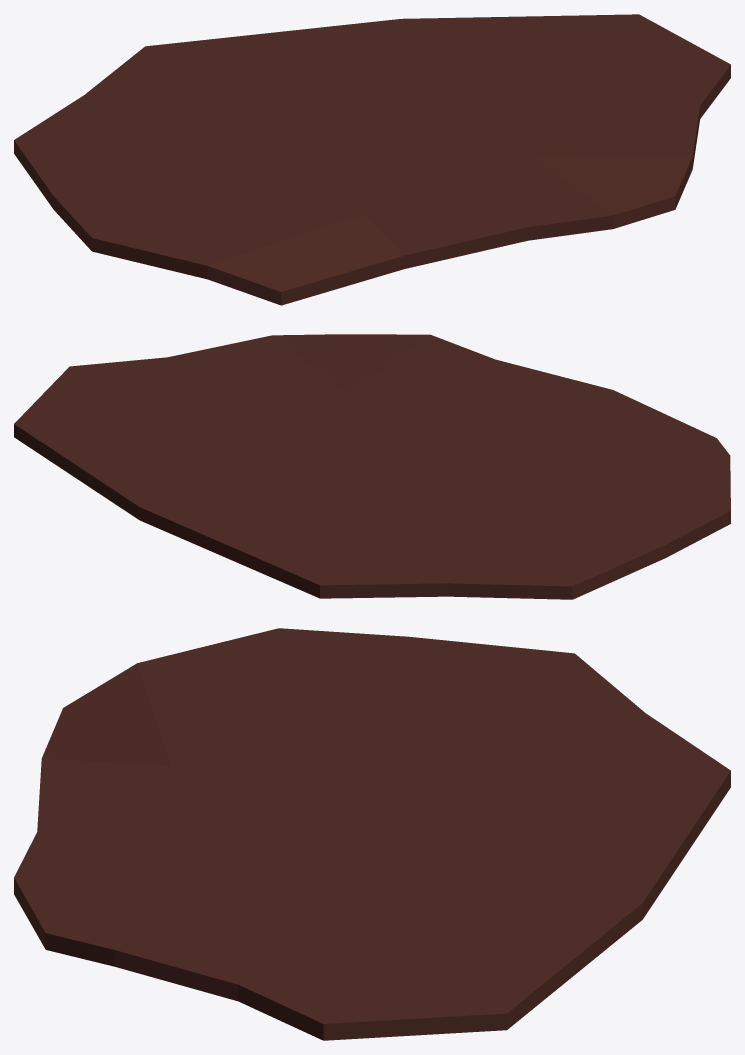
The model's file is puddleOfCoffe4.fbx.
The picture shows the model from 3 angles, top to bottom: view 1: azimuth 30°, elevation 25°; view 2: azimuth 150°, elevation 25°; view 3: azimuth 270°, elevation 25°; orthographic projection. The views are drawn at different scales.
Parts seen in each view (by area): view 1: Plane.004; view 2: Plane.004; view 3: Plane.004.
Part boxes in pixels (box(x1,y1,x2,y2)): Plane.004: box(14, 14, 730, 305); Plane.004: box(14, 334, 730, 599); Plane.004: box(14, 628, 730, 1040).
Size of the model in its own units: 60.83 by 2.52 by 46.57.
